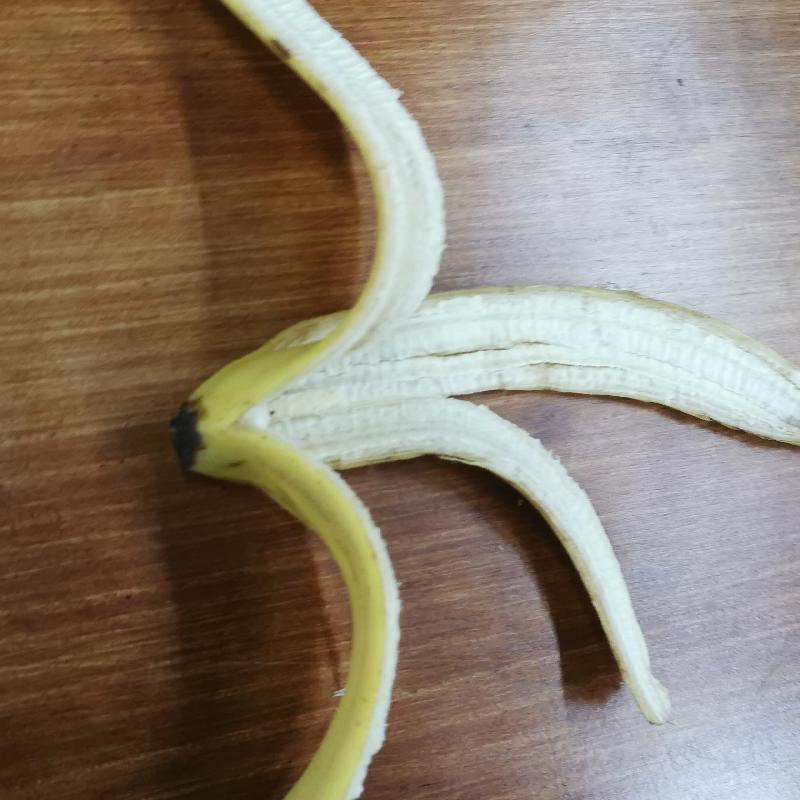bananas: (108, 4, 799, 799)
